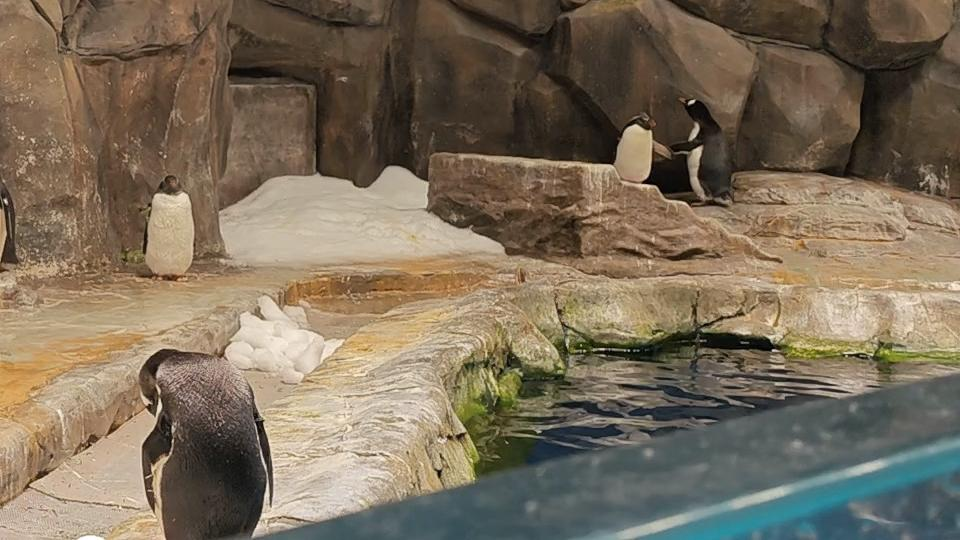Southern Rockhopper Penguin: (613, 114, 657, 183)
